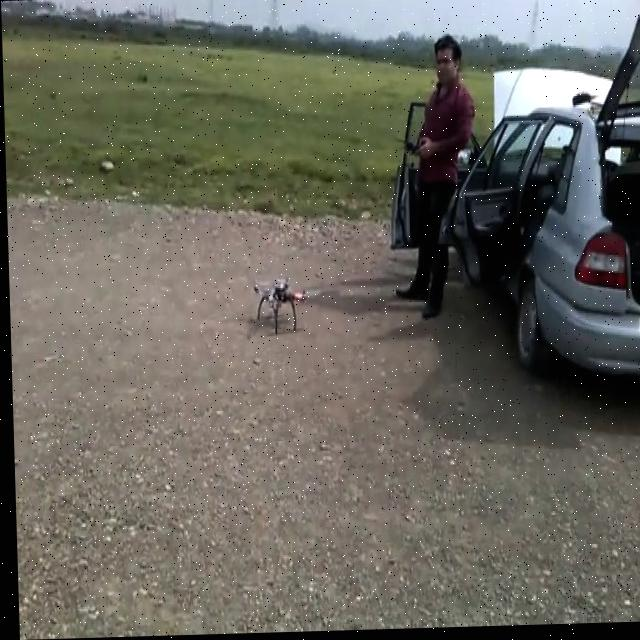drone: (246, 271, 310, 336)
